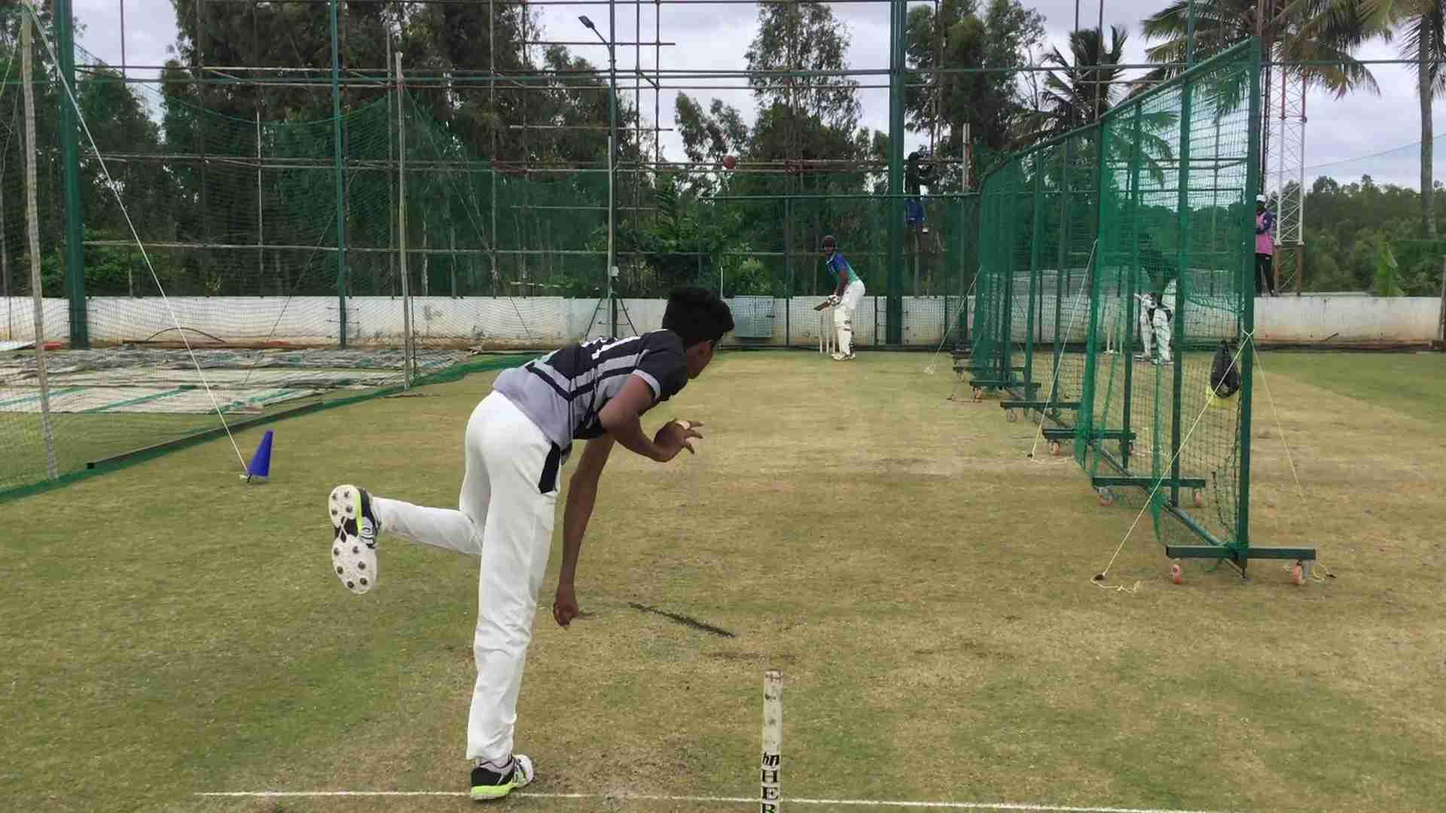batsman: (803, 219, 880, 358)
